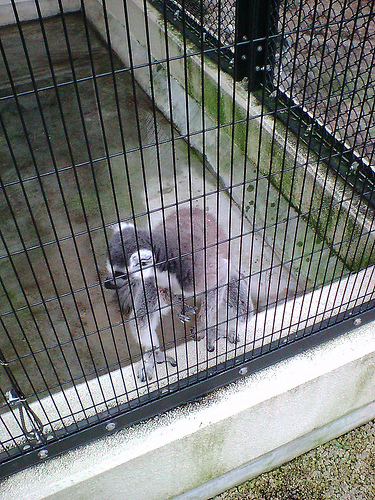cat: (103, 206, 255, 380)
